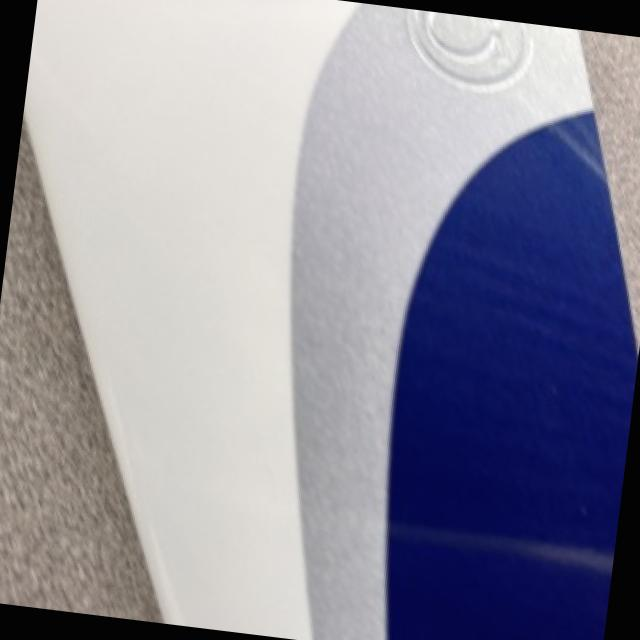healthy: (0, 524, 110, 597)
